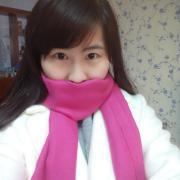WRONG: (41, 41, 110, 110)
